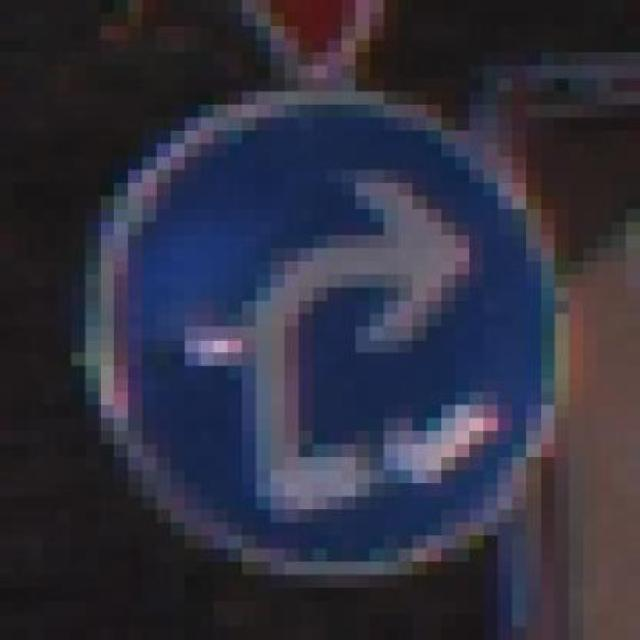Turn right ahead: (85, 78, 569, 574)
